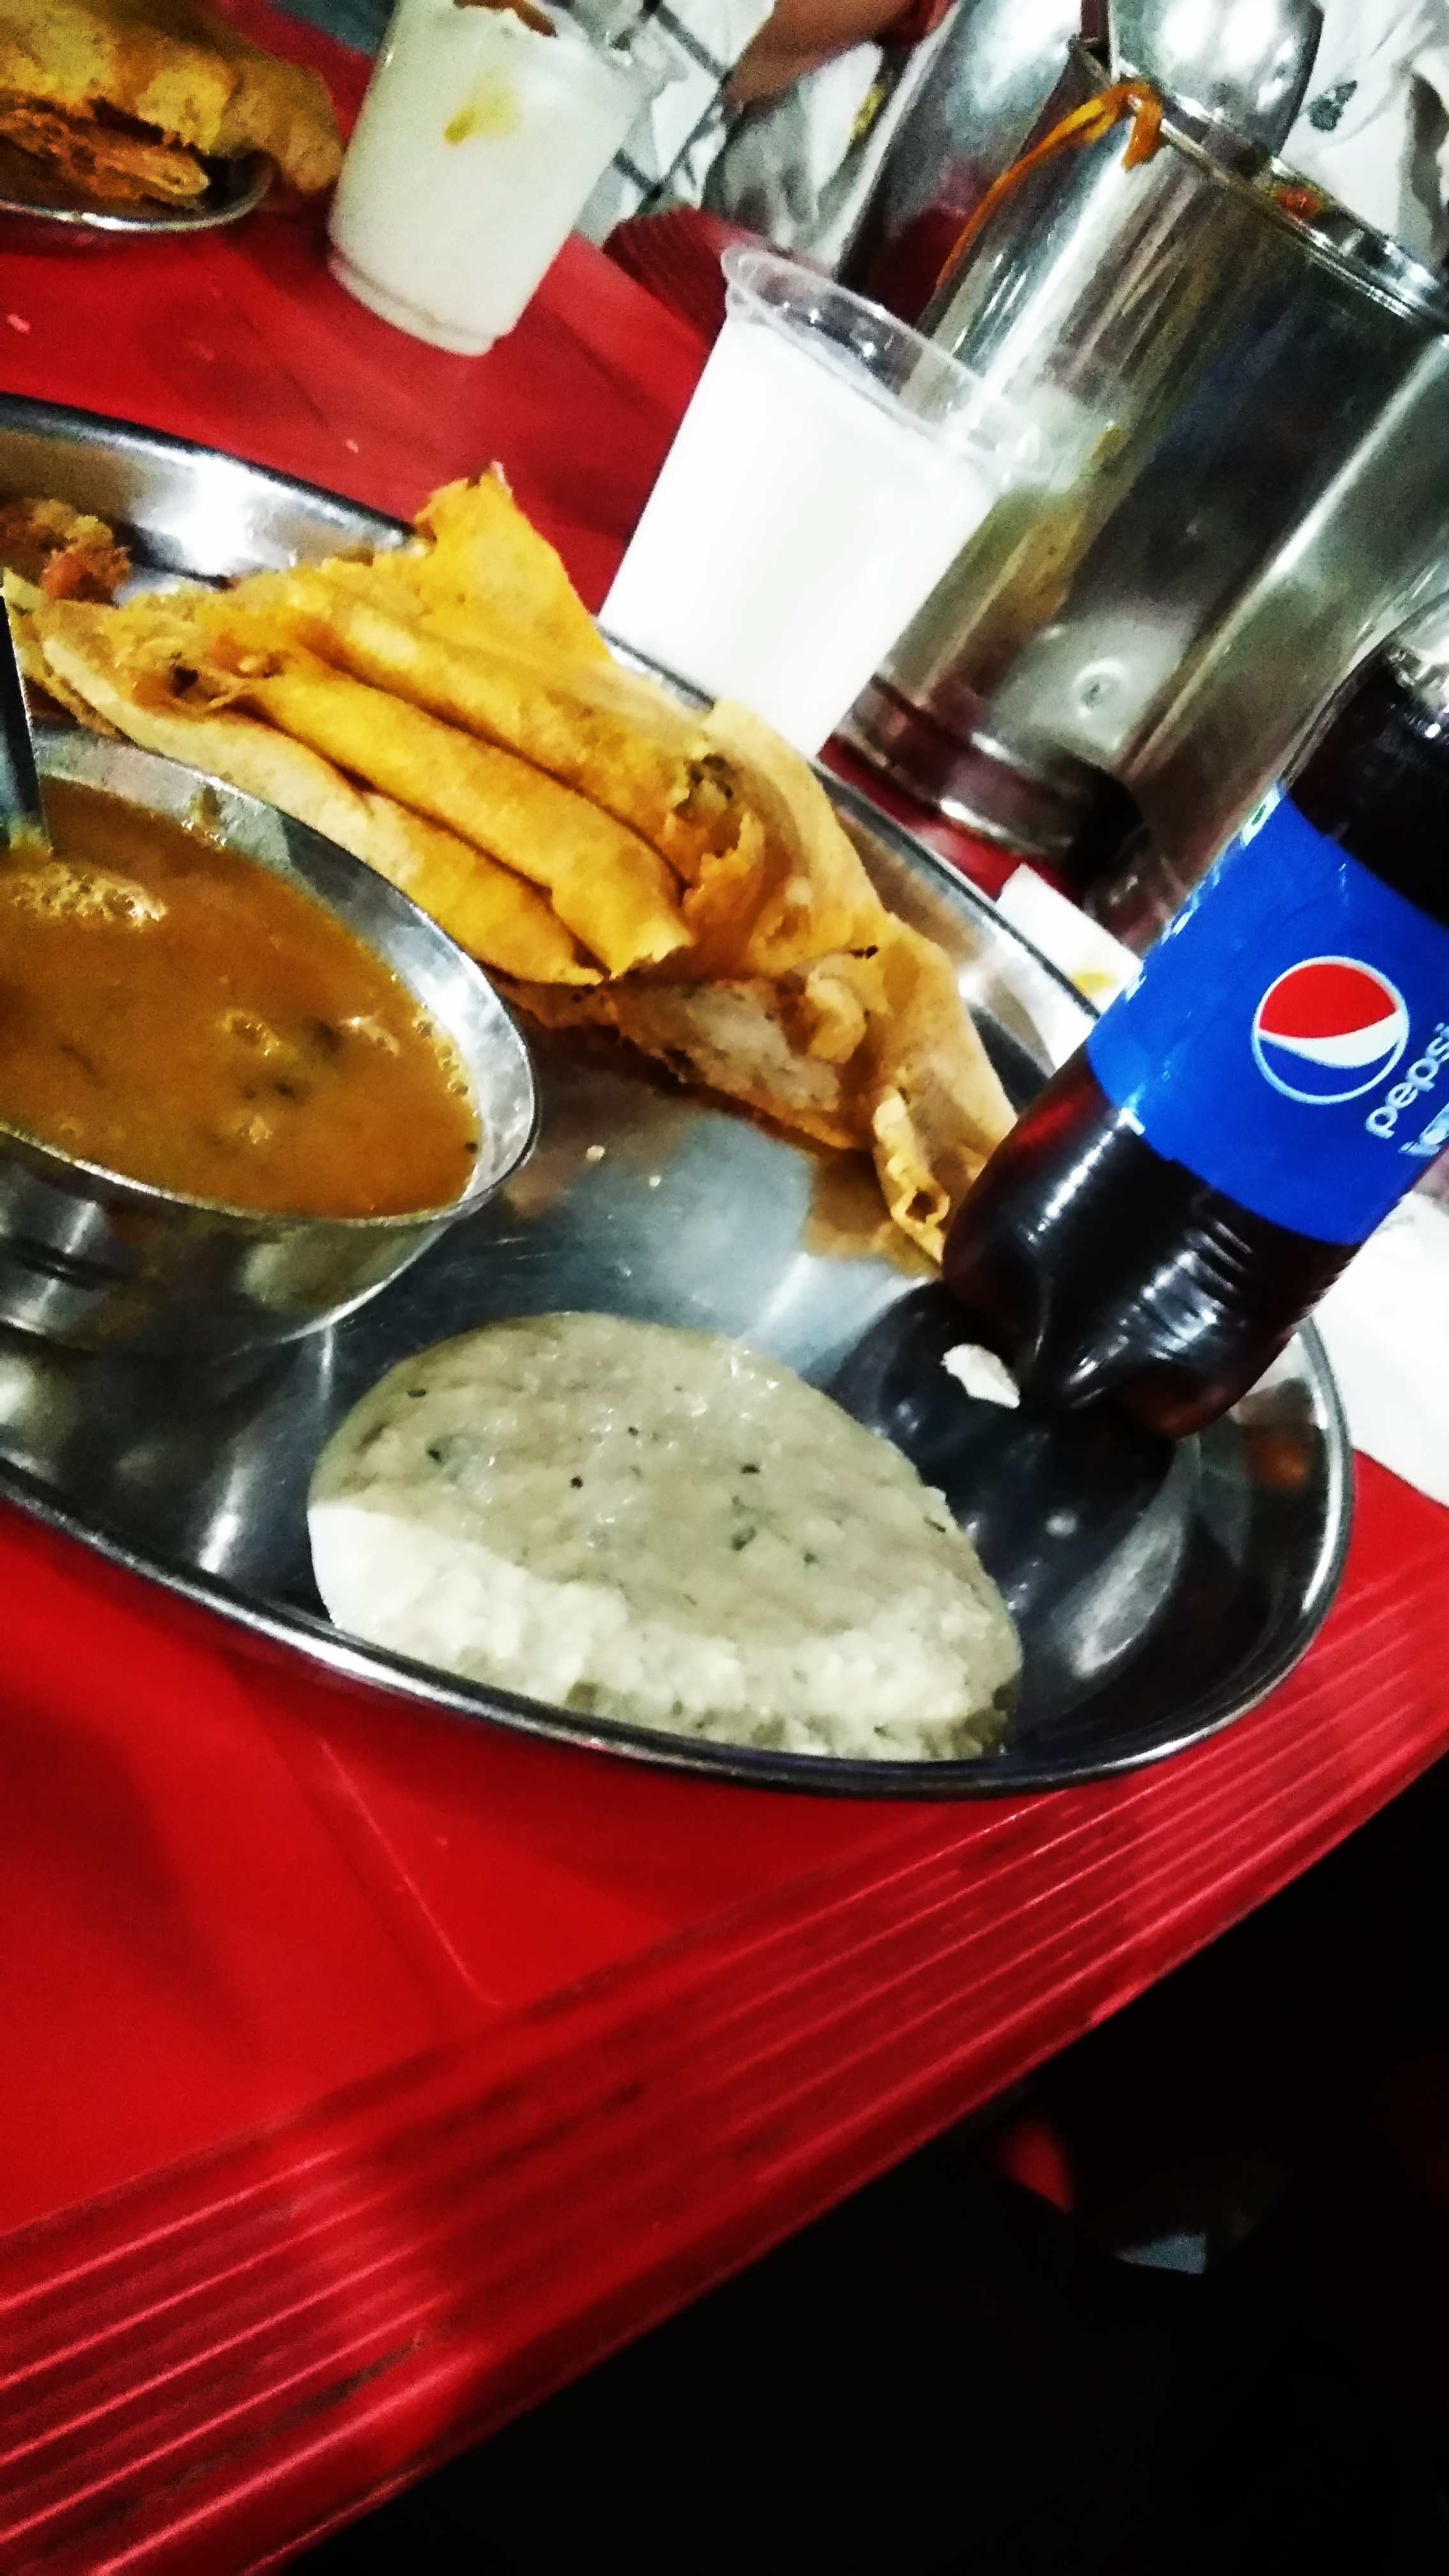food: (0, 446, 1449, 1775), (591, 237, 1049, 734), (313, 0, 692, 364), (2, 2, 350, 216)
